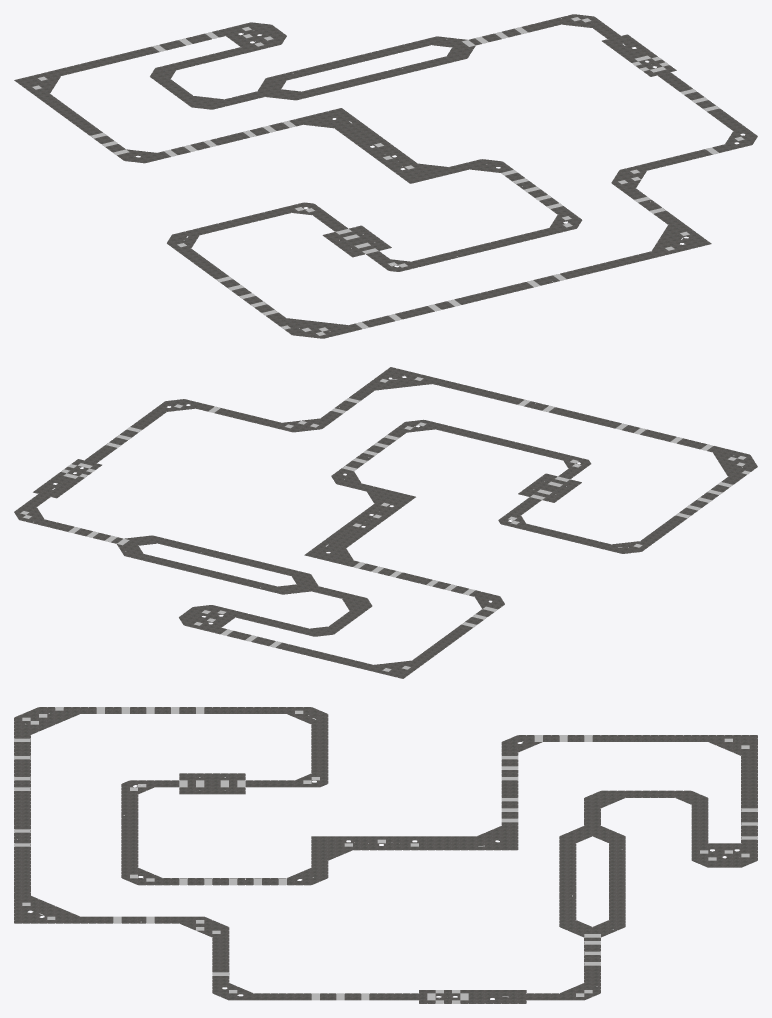
File: floor.fbx
The picture shows the model from 3 angles, top to bottom: view 1: azimuth 30°, elevation 25°; view 2: azimuth 150°, elevation 25°; view 3: azimuth 270°, elevation 25°; orthographic projection. The views are drawn at different scales.
Parts seen in each view (by area): view 1: Mesh; view 2: Mesh; view 3: Mesh.
Part boxes in pixels (x1,y1,x2,y2): Mesh: (14,14,757,338); Mesh: (14,367,757,678); Mesh: (14,707,757,1003).
Size of the model in its own units: 42520 by 0 by 45020.
